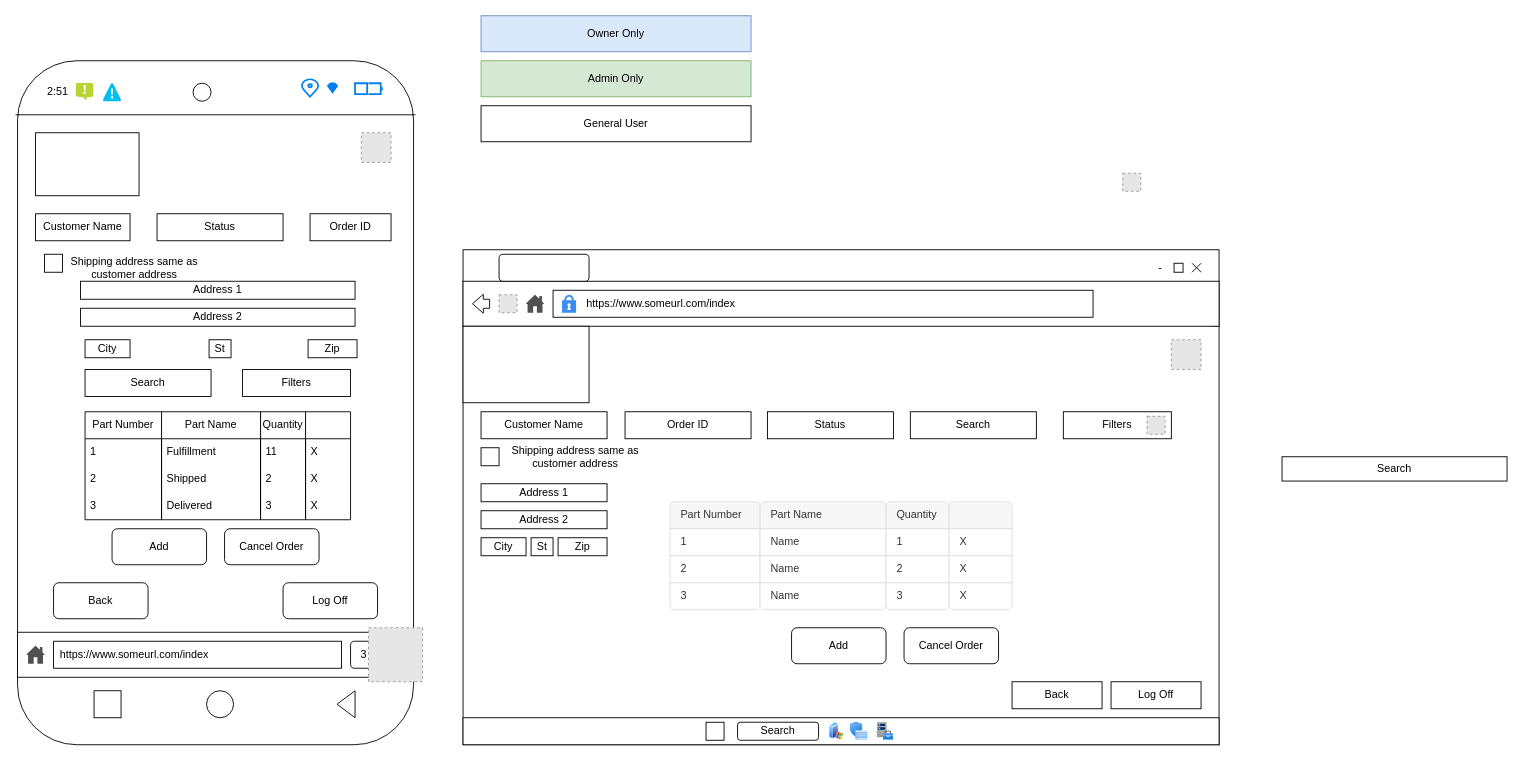
Some shapes in this 1524 by 761 pixel diagram are drawn without their labels. Grey dashed boxes stand in for pictures. Each missing label, with the centre of its shape:
Company Logo: [525,364]
Logo: [87,164]
Tab: [543,267]
